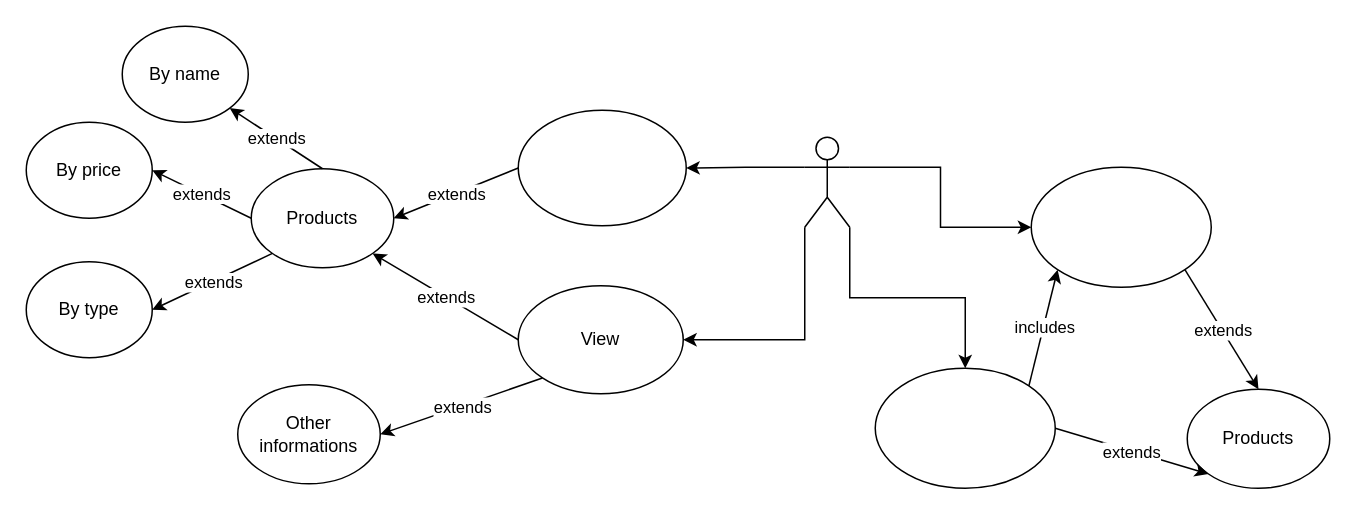
This 1356x515 diagram has some shape labels left out. The centre of each missing label's shape, as x and y in pixels:
"Buy" goes at (x=964, y=427).
"Filter" goes at (x=601, y=167).
"Save in the shopping cart" goes at (x=1120, y=226).
"User" goes at (x=826, y=181).
